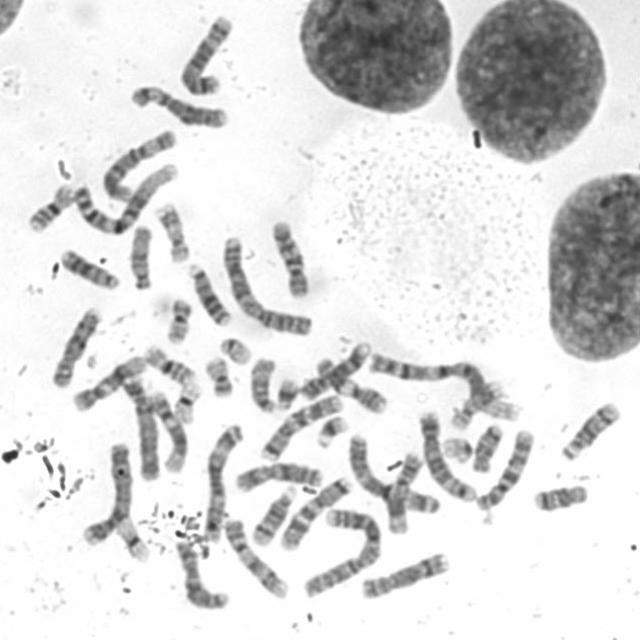A1: (366, 348, 524, 424), (70, 159, 180, 237)
A2: (218, 232, 314, 338), (298, 504, 384, 598)
A3: (344, 428, 442, 514), (200, 420, 246, 541)
B4: (78, 438, 133, 547), (119, 372, 162, 482)
B5: (416, 407, 478, 503), (174, 11, 237, 97)
C10: (471, 424, 536, 512), (266, 216, 310, 300)
C11: (318, 358, 391, 413), (384, 448, 424, 536)
C12: (68, 351, 149, 414), (146, 387, 188, 474)
C6: (99, 125, 178, 202), (124, 80, 228, 130)
C7: (256, 391, 344, 463), (276, 472, 354, 551)
C8: (356, 548, 452, 601), (46, 304, 104, 389)
C9: (222, 516, 290, 600), (296, 338, 372, 402)
D13: (185, 260, 232, 328), (56, 244, 121, 291)
D14: (556, 398, 623, 463), (248, 482, 298, 547)
D15: (126, 222, 155, 292), (246, 354, 278, 414)
E16: (23, 180, 76, 234), (140, 340, 198, 387)
E17: (450, 376, 510, 432), (152, 198, 190, 264)
E18: (467, 420, 505, 473), (530, 481, 589, 514)
F19: (112, 515, 152, 564), (170, 378, 204, 426)
F20: (162, 295, 194, 345), (202, 353, 236, 399)
G21: (312, 410, 350, 450), (272, 373, 300, 410)
G22: (216, 333, 253, 365), (440, 434, 474, 464)
X: (172, 538, 230, 610), (230, 458, 324, 494)
